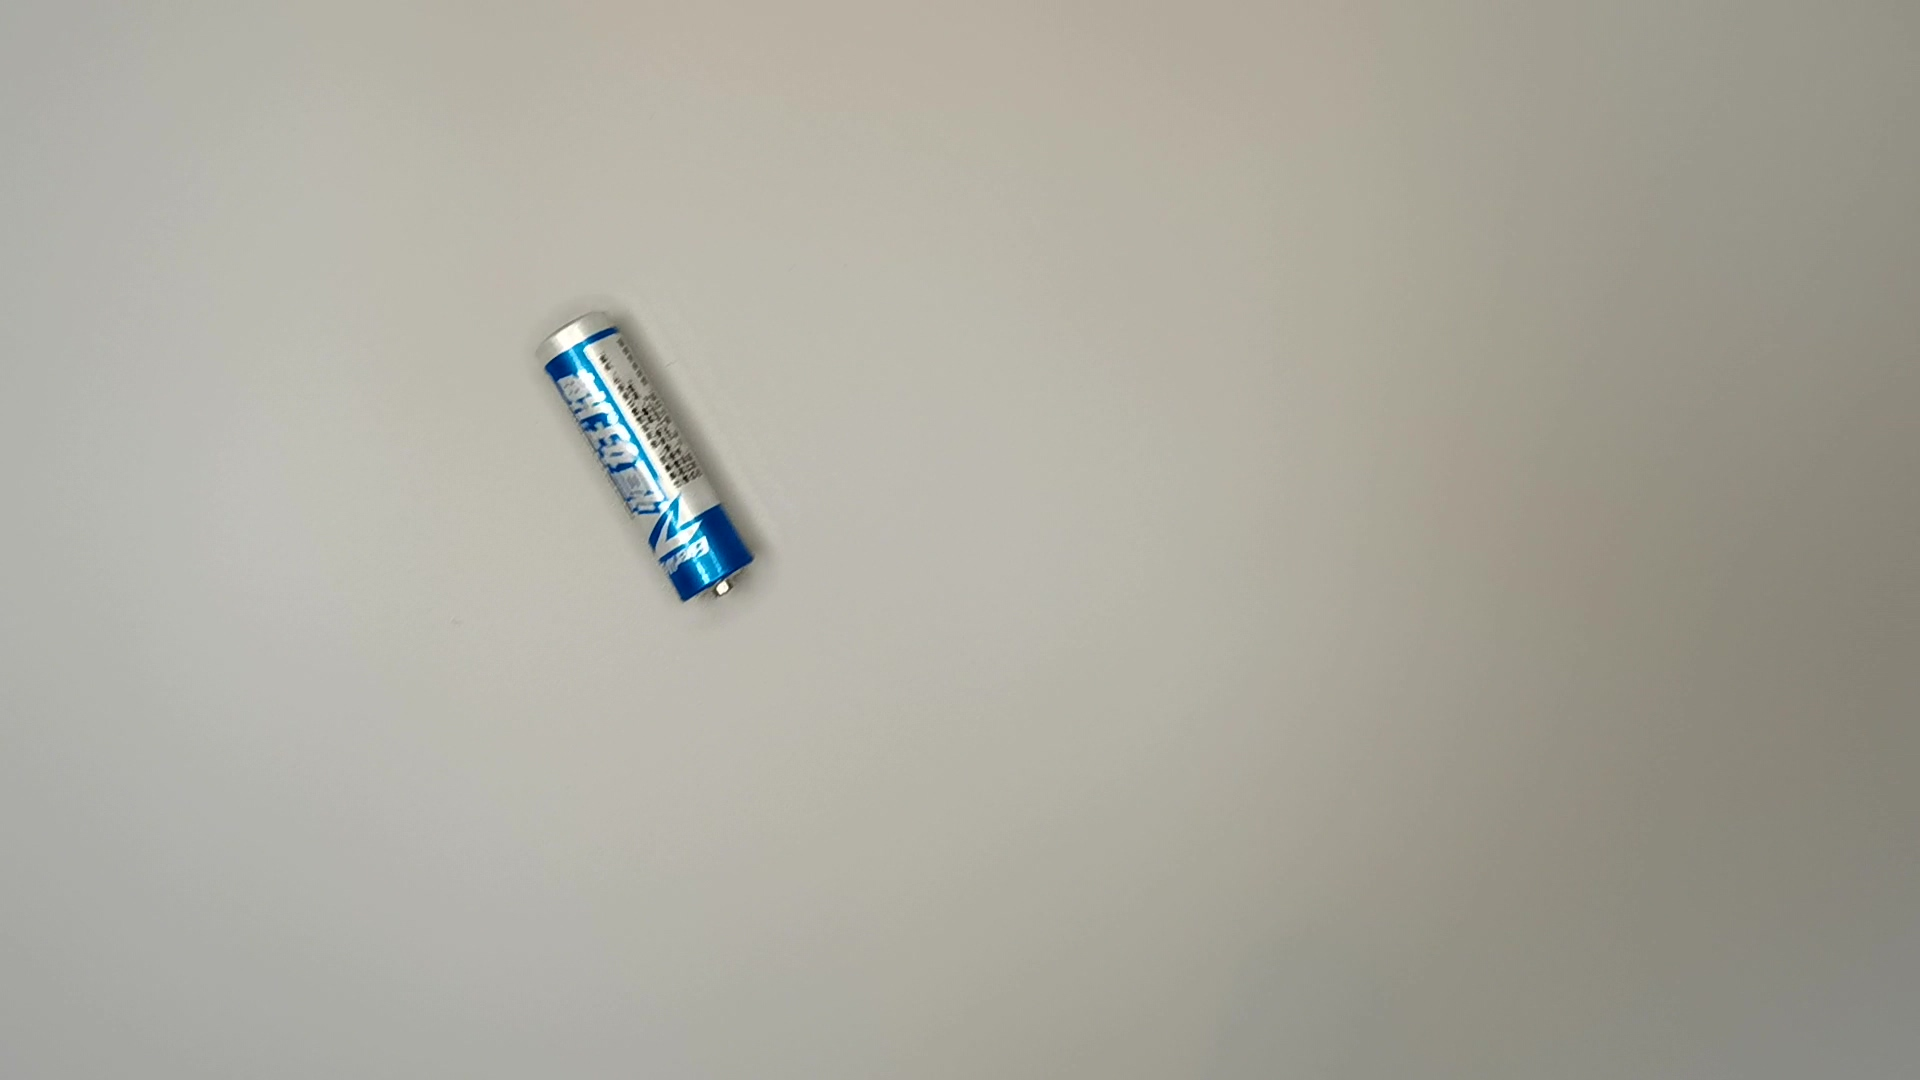battery: (531, 309, 769, 605)
